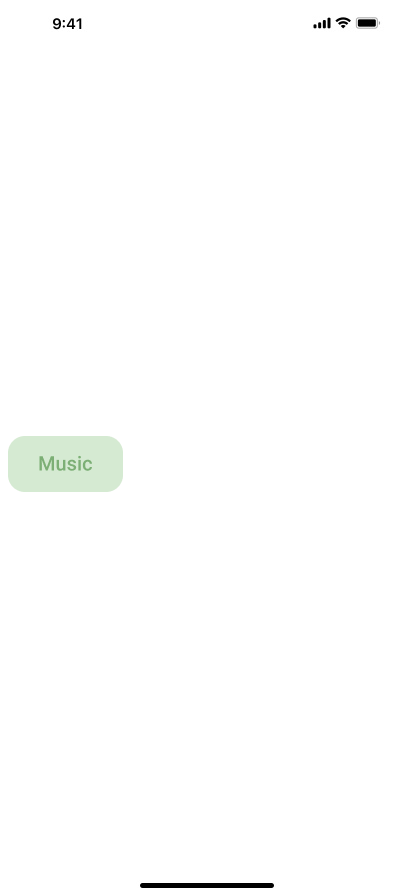Buttons: (8, 436, 131, 492)
Home Indicator: (0, 862, 414, 896)
Status Bar: (0, 0, 414, 44)
